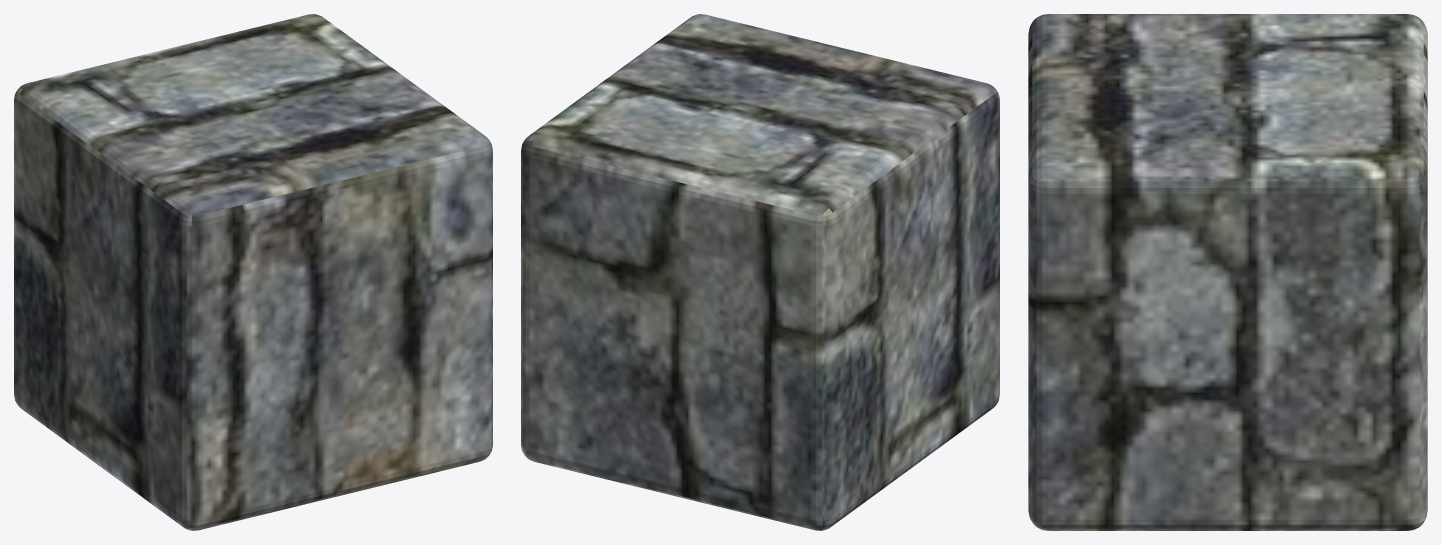
Rendered from cubeflat.obj.
The picture shows the model from 3 angles, left to right: view 1: azimuth 30°, elevation 25°; view 2: azimuth 150°, elevation 25°; view 3: azimuth 270°, elevation 25°; orthographic projection. The views are drawn at different scales.
Parts seen in each view (by area): view 1: Cube_Finished_Cube.001; view 2: Cube_Finished_Cube.001; view 3: Cube_Finished_Cube.001.
Part boxes in pixels (x1=…): Cube_Finished_Cube.001: x1=14, y1=14, x2=492, y2=530; Cube_Finished_Cube.001: x1=521, y1=14, x2=999, y2=530; Cube_Finished_Cube.001: x1=1028, y1=14, x2=1427, y2=530.
Bounding box in the file's own units: 2 × 2 × 2.
Materials: 1 (1 with a texture image).
